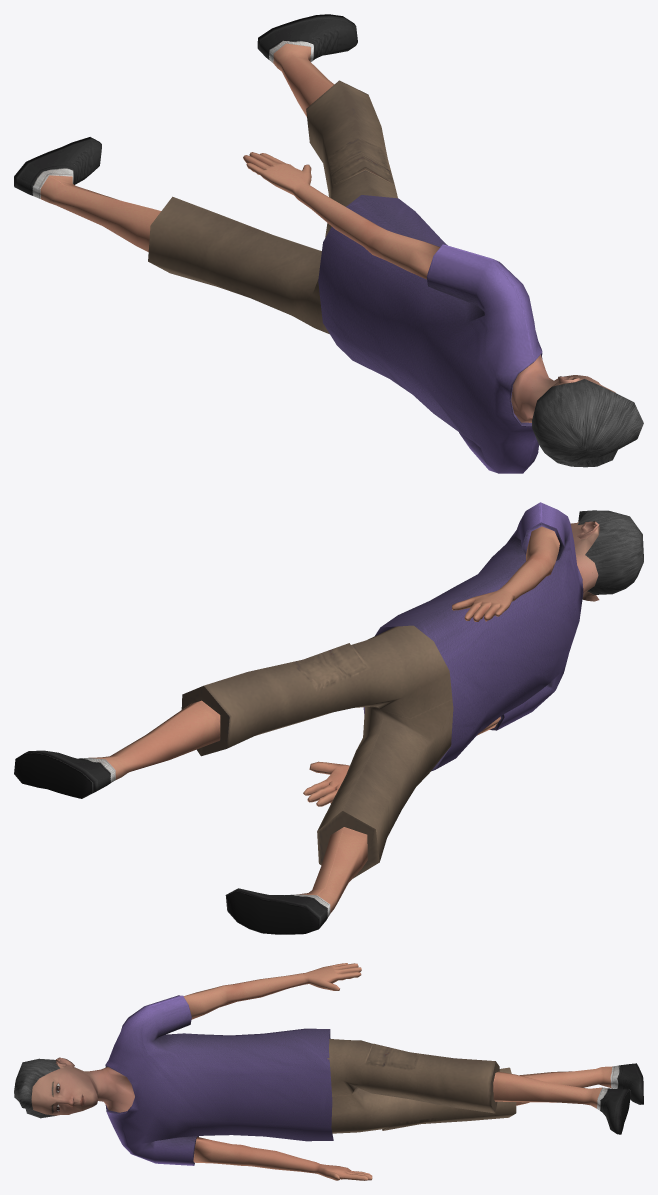
The model's file is walk.obj.
3 views of the same model, one above another, from view 1: azimuth 30°, elevation 25°; view 2: azimuth 150°, elevation 25°; view 3: azimuth 270°, elevation 25° (orthographic). The views are drawn at different scales.
Bounding box in the file's own units: 0.7292 × 0.4986 × 1.76.
Materials: 1 (1 with a texture image).
